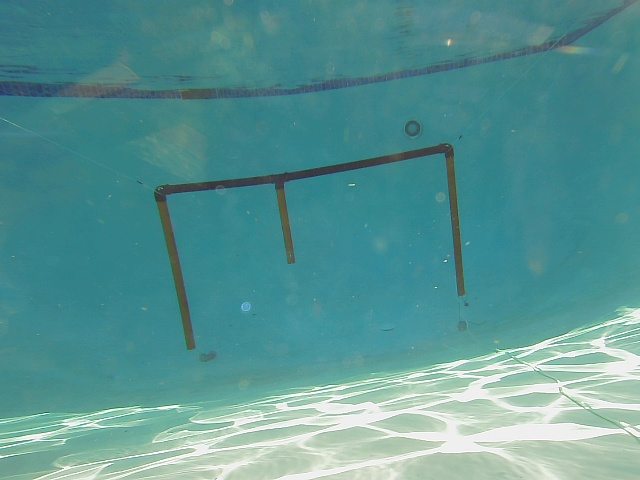Gate: (156, 197, 197, 354), (442, 153, 469, 302), (274, 182, 299, 266)
